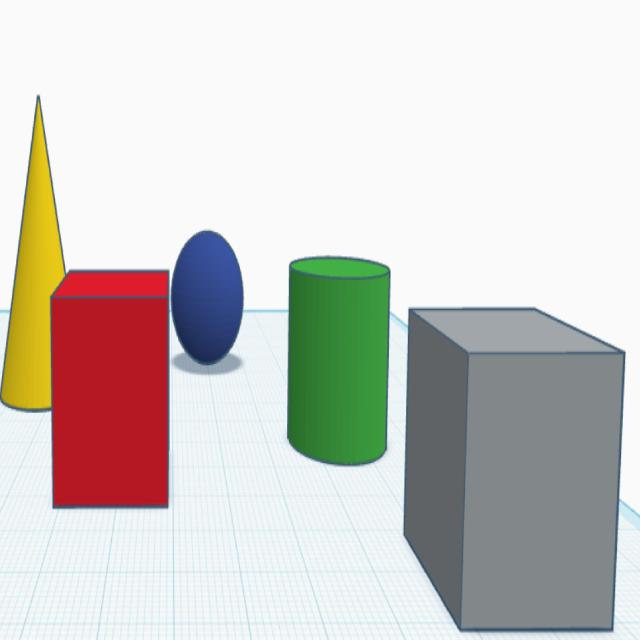cube: (402, 302, 628, 638), (47, 266, 172, 515)
sphere: (170, 226, 246, 370)
